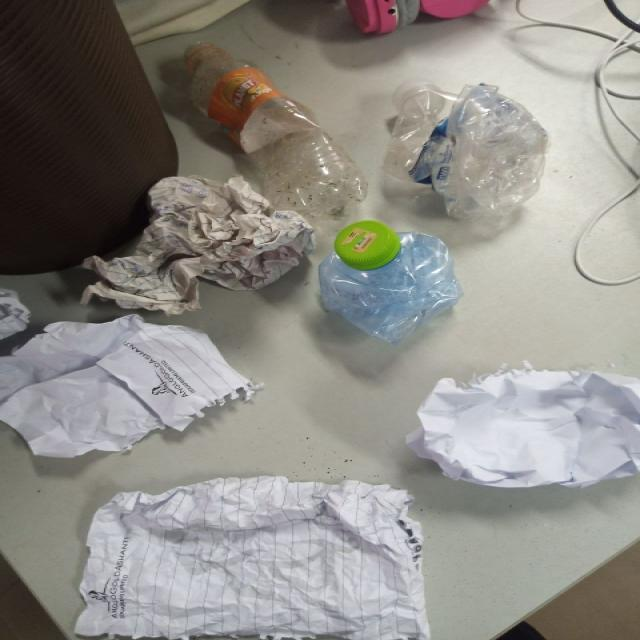Paper: (73, 476, 431, 640), (0, 315, 255, 460), (83, 175, 313, 316), (404, 368, 640, 490)
Plastic: (180, 39, 367, 216), (391, 79, 551, 224), (319, 221, 463, 345)
